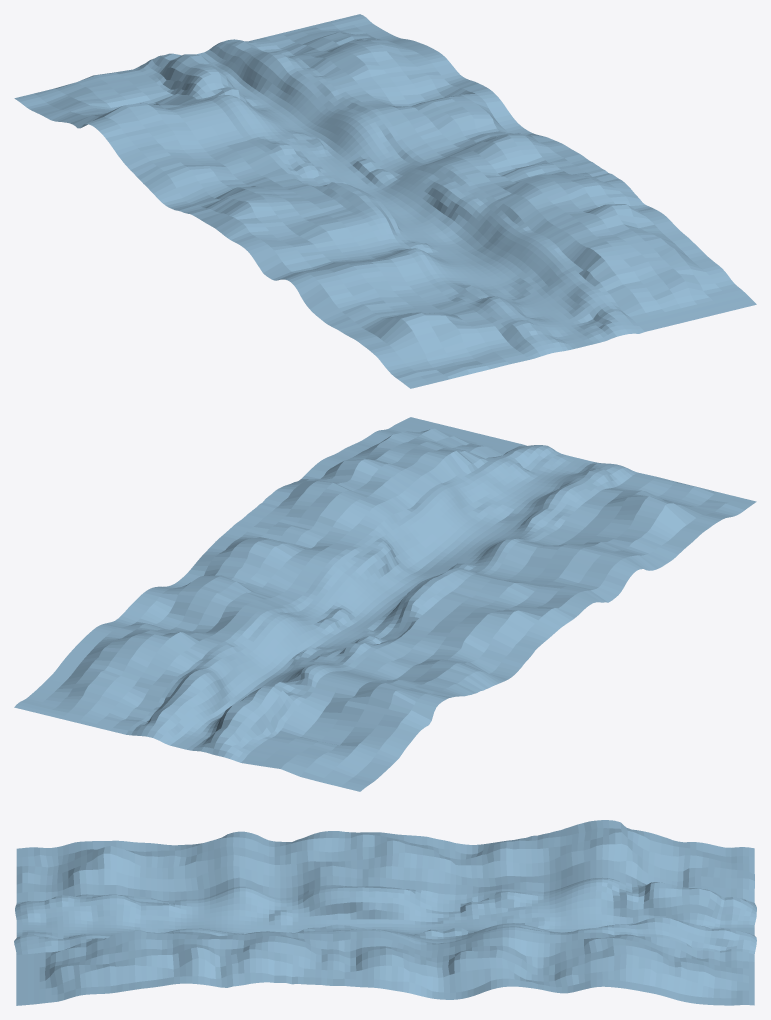
File: skyblue theme .fbx
3 views of the same model, one above another, from view 1: azimuth 30°, elevation 25°; view 2: azimuth 150°, elevation 25°; view 3: azimuth 270°, elevation 25° (orthographic). The views are drawn at different scales.
Parts seen in each view (by area): view 1: Plane; view 2: Plane; view 3: Plane.
Part boxes in pixels (bbox=[...]): Plane: bbox=[14, 14, 756, 388]; Plane: bbox=[14, 417, 756, 791]; Plane: bbox=[14, 820, 756, 1005].
Size of the model in its own units: 135623 by 17309 by 268274.
1 material, 1 textured.
